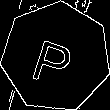P_N: (31, 27, 81, 87)
